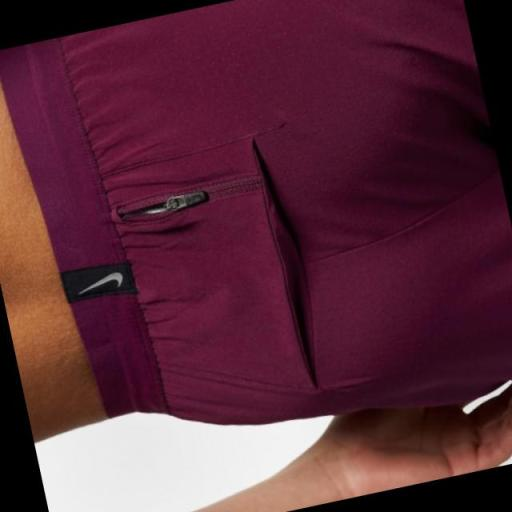Nike: (76, 264, 129, 299)
